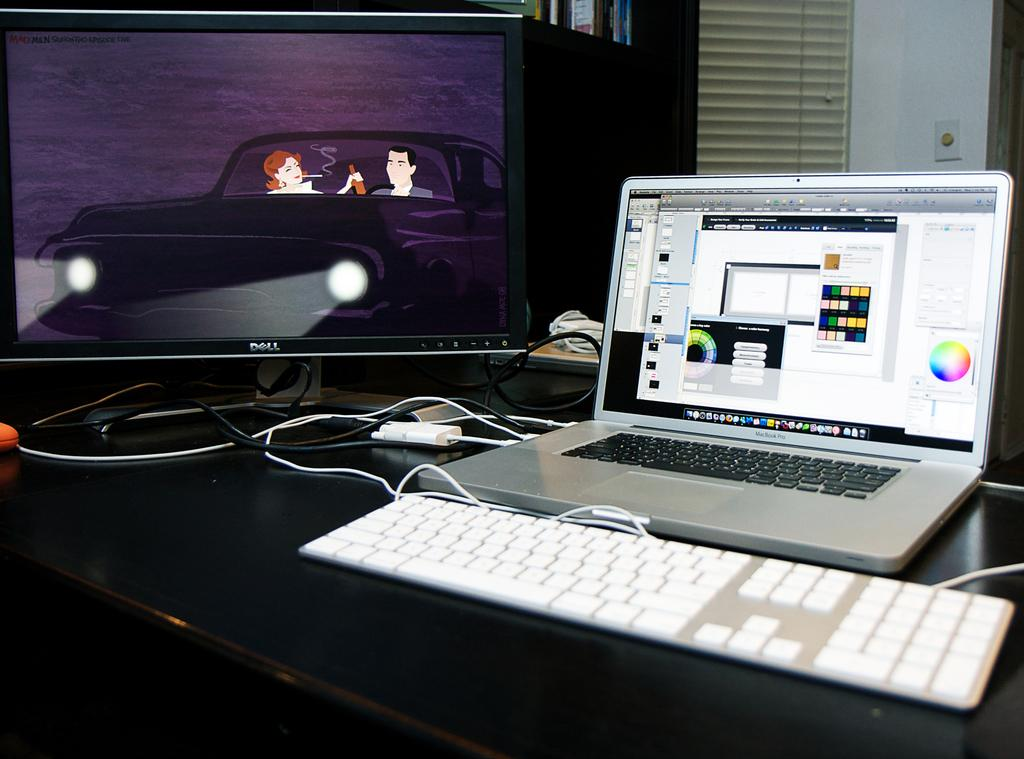Computer-keyboard: (296, 489, 1016, 707), (559, 428, 905, 500)
Laptop: (533, 175, 1018, 562)
